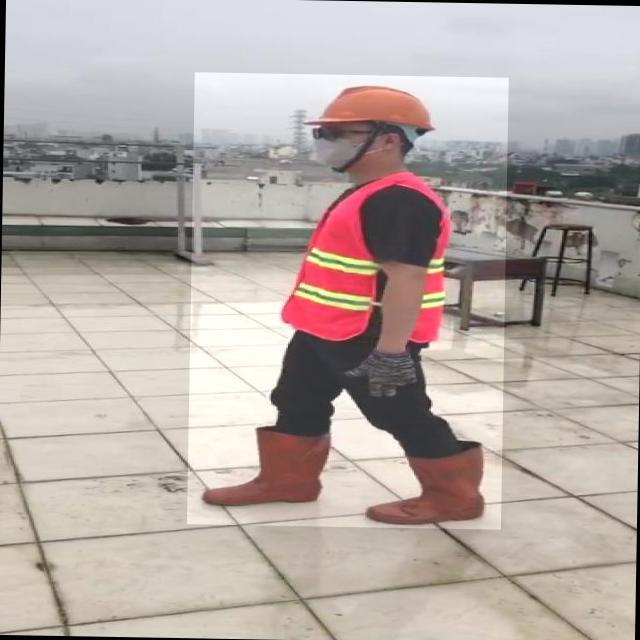Gloves: (338, 352, 419, 397)
Helmet: (315, 81, 441, 132)
Human: (187, 73, 509, 530)
Safety Boot: (198, 426, 327, 506), (368, 444, 487, 526)
Safety Vest: (282, 173, 449, 346)
